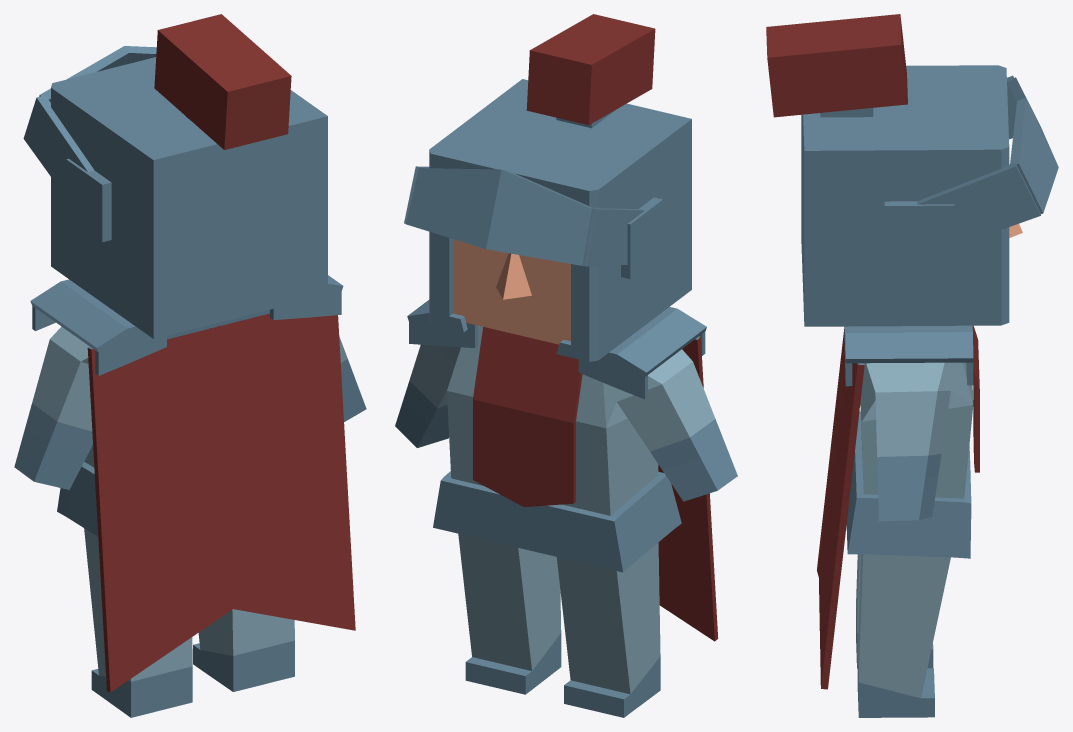
File: stealth_knight_fin.fbx
3 renders of one model, left to right at view 1: azimuth 30°, elevation 25°; view 2: azimuth 150°, elevation 25°; view 3: azimuth 270°, elevation 25°, orthographic. The views are drawn at different scales.
Visible parts, largest first — view 1: Knight; view 2: Knight; view 3: Knight.
Boxes of the visible parts, x1=… form: Knight: x1=14, y1=14, x2=366, y2=717; Knight: x1=395, y1=14, x2=737, y2=717; Knight: x1=766, y1=14, x2=1058, y2=717.
Bounding box in the file's own units: 192 × 360 × 147.
